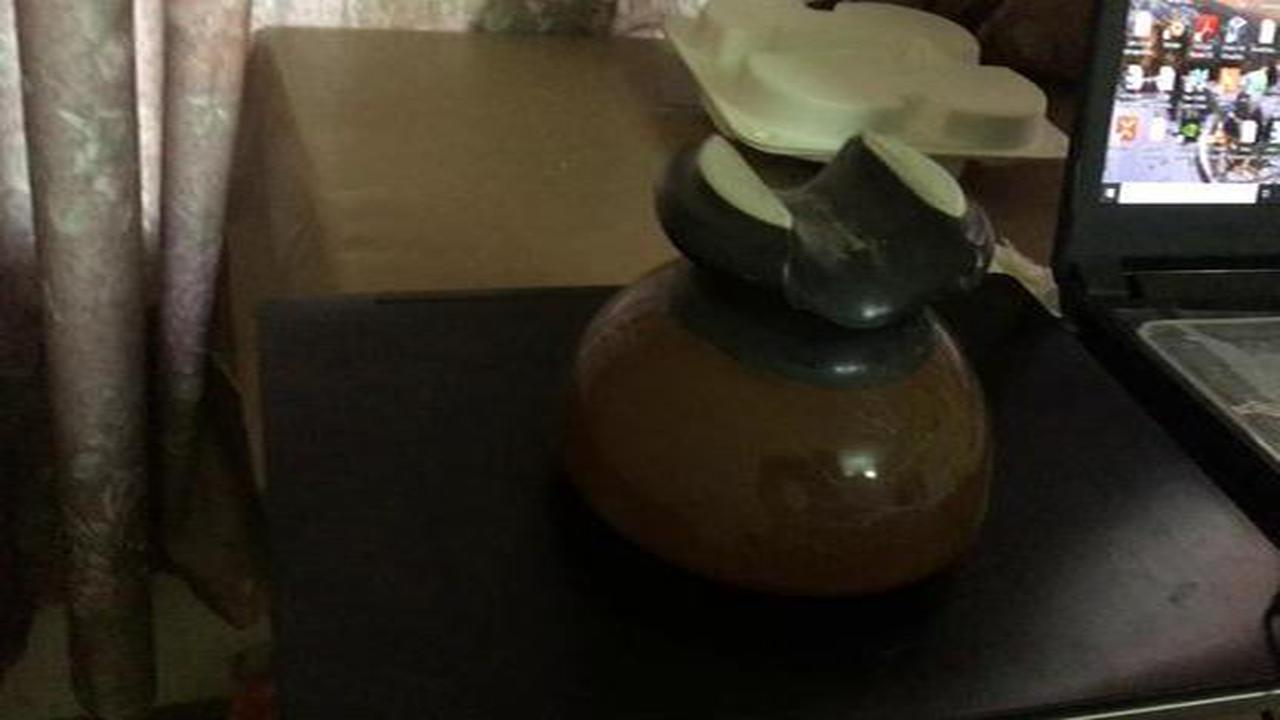insulator_pin: (527, 109, 1031, 617)
